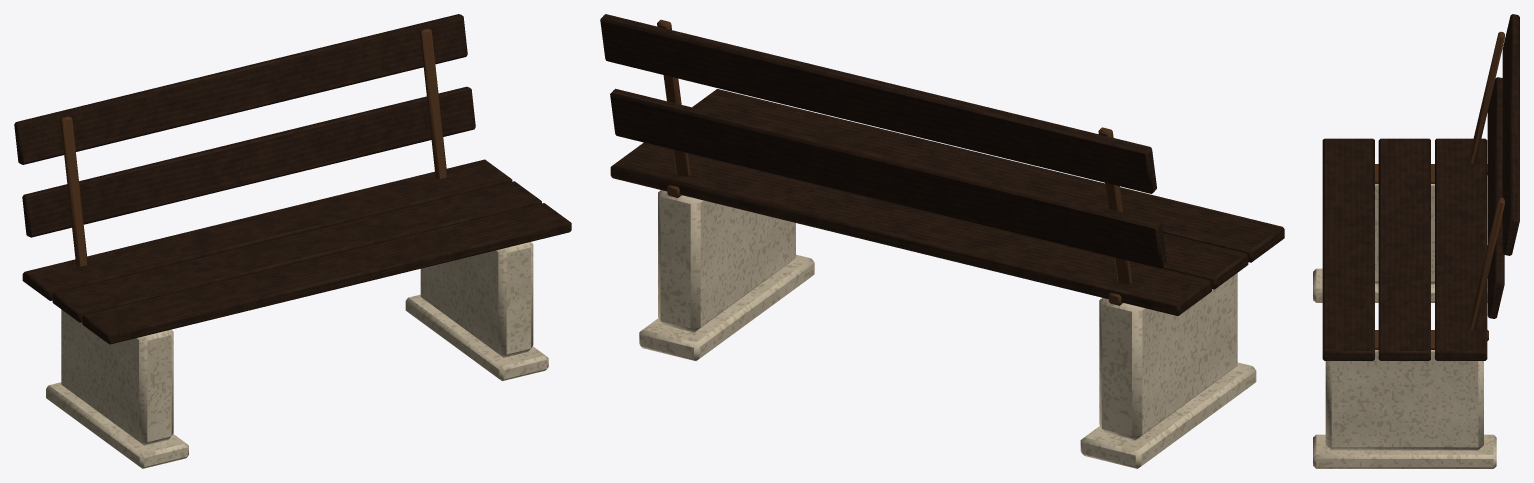
Rendered from bench-short.lod1.glb.
3 renders of one model, left to right at view 1: azimuth 30°, elevation 25°; view 2: azimuth 150°, elevation 25°; view 3: azimuth 270°, elevation 25°, orthographic. The views are drawn at different scales.
Parts seen in each view (by area): view 1: bench_short_Timber • oiled walnut, bench_short_Stone • warm limestone, bench_short_Trim • places palette; view 2: bench_short_Timber • oiled walnut, bench_short_Stone • warm limestone, bench_short_Trim • places palette; view 3: bench_short_Timber • oiled walnut, bench_short_Stone • warm limestone, bench_short_Trim • places palette.
Part boxes in pixels (x1,y1,x2,y2): bench_short_Timber • oiled walnut: (14,14,571,344); bench_short_Stone • warm limestone: (46,242,548,468); bench_short_Trim • places palette: (60,28,447,266); bench_short_Timber • oiled walnut: (600,14,1284,315); bench_short_Stone • warm limestone: (639,190,1256,468); bench_short_Trim • places palette: (657,19,1132,305); bench_short_Timber • oiled walnut: (1322,14,1519,360); bench_short_Stone • warm limestone: (1313,184,1496,468); bench_short_Trim • places palette: (1375,31,1504,349).
Bounding box in the file's own units: 1.6 × 0.9056 × 0.6529.
3 materials, 3 textured.
